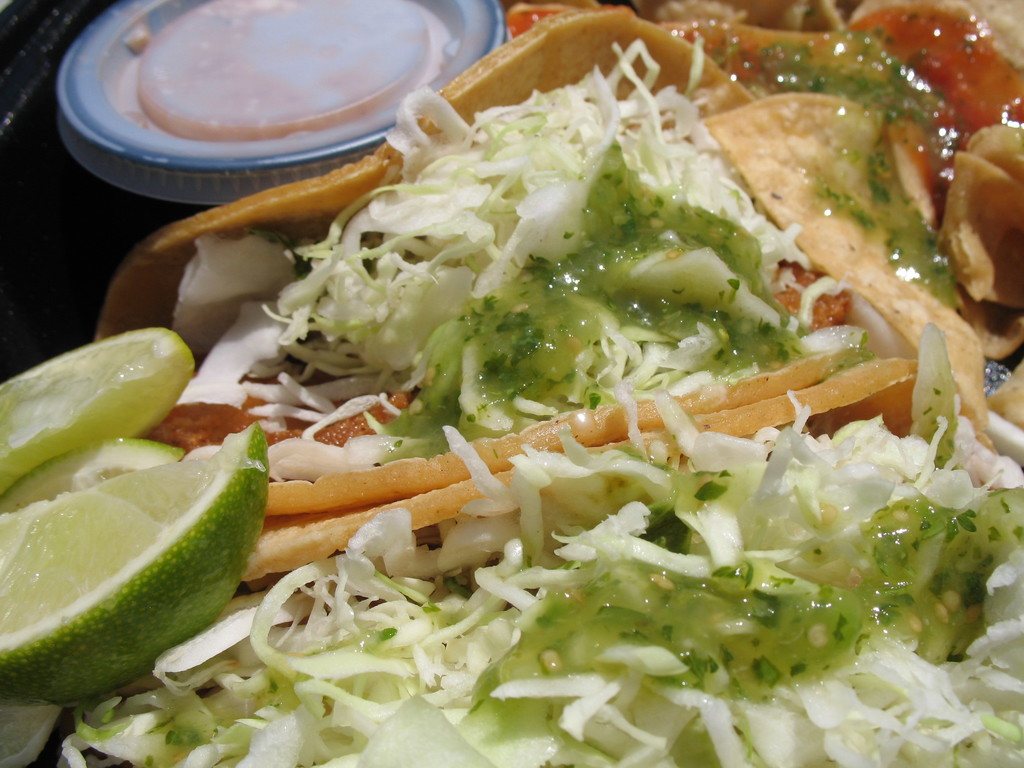taco: (7, 348, 1023, 762), (95, 1, 870, 461)
